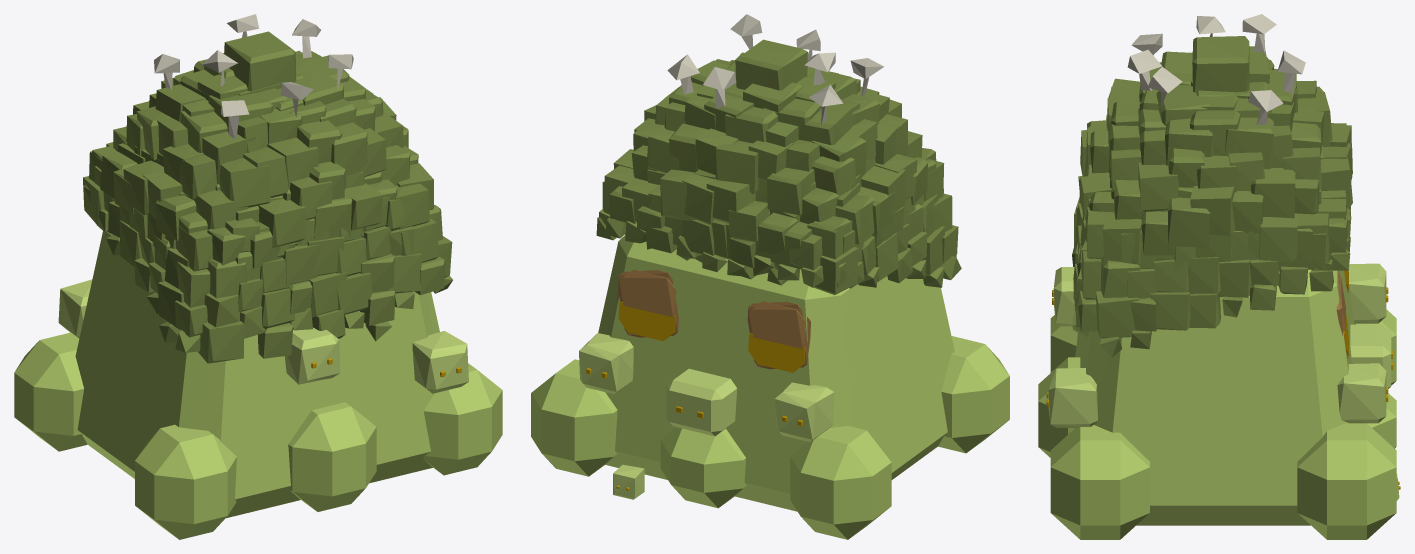
Rendered from mother_slime_roblox.glb.
3 views of the same model, side by side, from view 1: azimuth 30°, elevation 25°; view 2: azimuth 150°, elevation 25°; view 3: azimuth 270°, elevation 25° (orthographic). The views are drawn at different scales.
Parts seen in each view (by area): view 1: Body; view 2: Body, Eyes; view 3: Body.
Boxes of the visible parts, box(x1,y1,x2,y2) form: Body: box(14, 14, 502, 539); Body: box(531, 14, 1009, 539); Eyes: box(586, 301, 805, 490); Body: box(1038, 14, 1399, 539).
Bounding box in the file's own units: 1.16 × 1.33 × 1.02.
